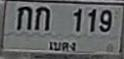1: (73, 7, 81, 30), (88, 8, 95, 31)
9: (99, 9, 111, 31)
A01: (34, 6, 49, 30), (16, 5, 31, 29)
